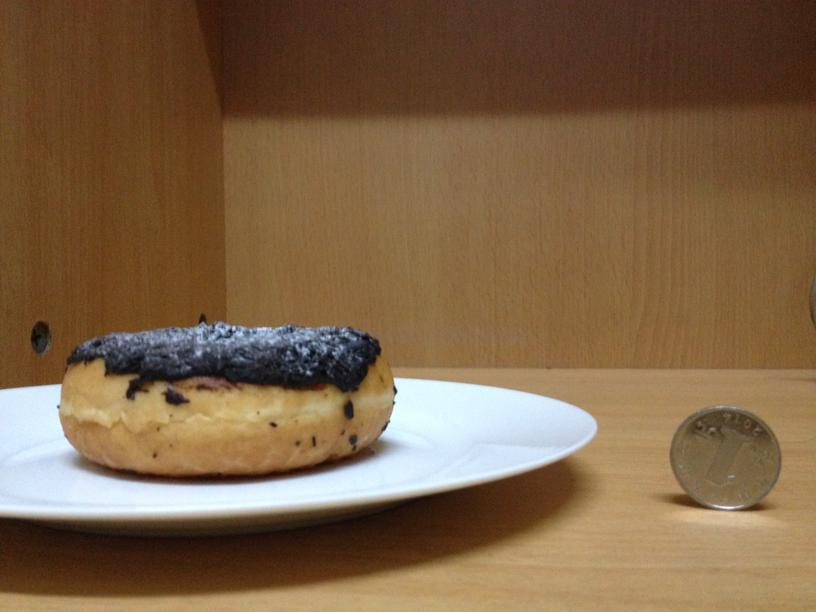coin: (674, 404, 768, 515)
doughnut: (51, 323, 398, 480)
